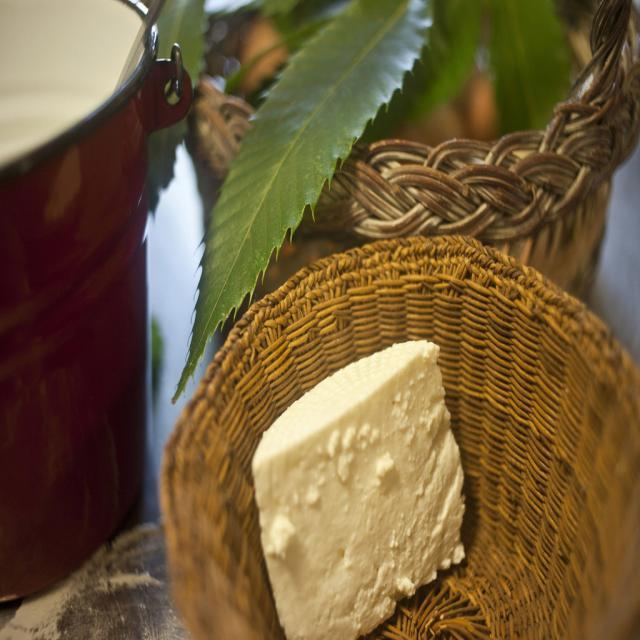Cheese: (250, 335, 469, 639)
